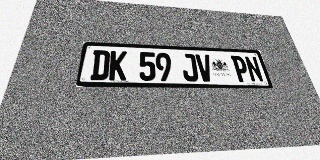5: (139, 52, 156, 81)
9: (155, 52, 173, 81)
D: (90, 50, 110, 80)
J: (181, 53, 199, 81)
K: (108, 51, 127, 80)
N: (244, 56, 264, 82)
P: (230, 55, 251, 82)
V: (195, 54, 214, 82)
